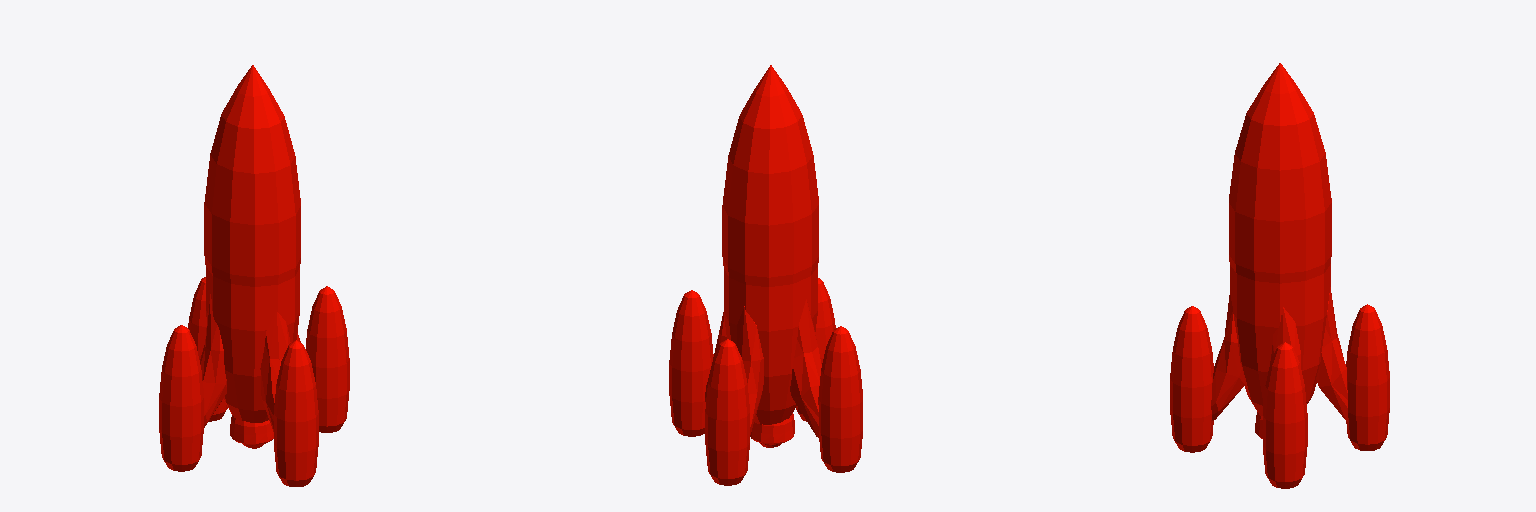
3 renders of one model, left to right at view 1: azimuth 30°, elevation 25°; view 2: azimuth 150°, elevation 25°; view 3: azimuth 270°, elevation 25°, orthographic.
Parts seen in each view (by area): view 1: group[number redacted]; view 2: group[number redacted]; view 3: group[number redacted].
Boxes of the visible parts, x1=… form: group[number redacted]: x1=159, y1=65, x2=349, y2=486; group[number redacted]: x1=669, y1=65, x2=862, y2=485; group[number redacted]: x1=1170, y1=63, x2=1389, y2=488.
Size of the model in its own units: 0.2656 by 0.5239 by 0.2717.